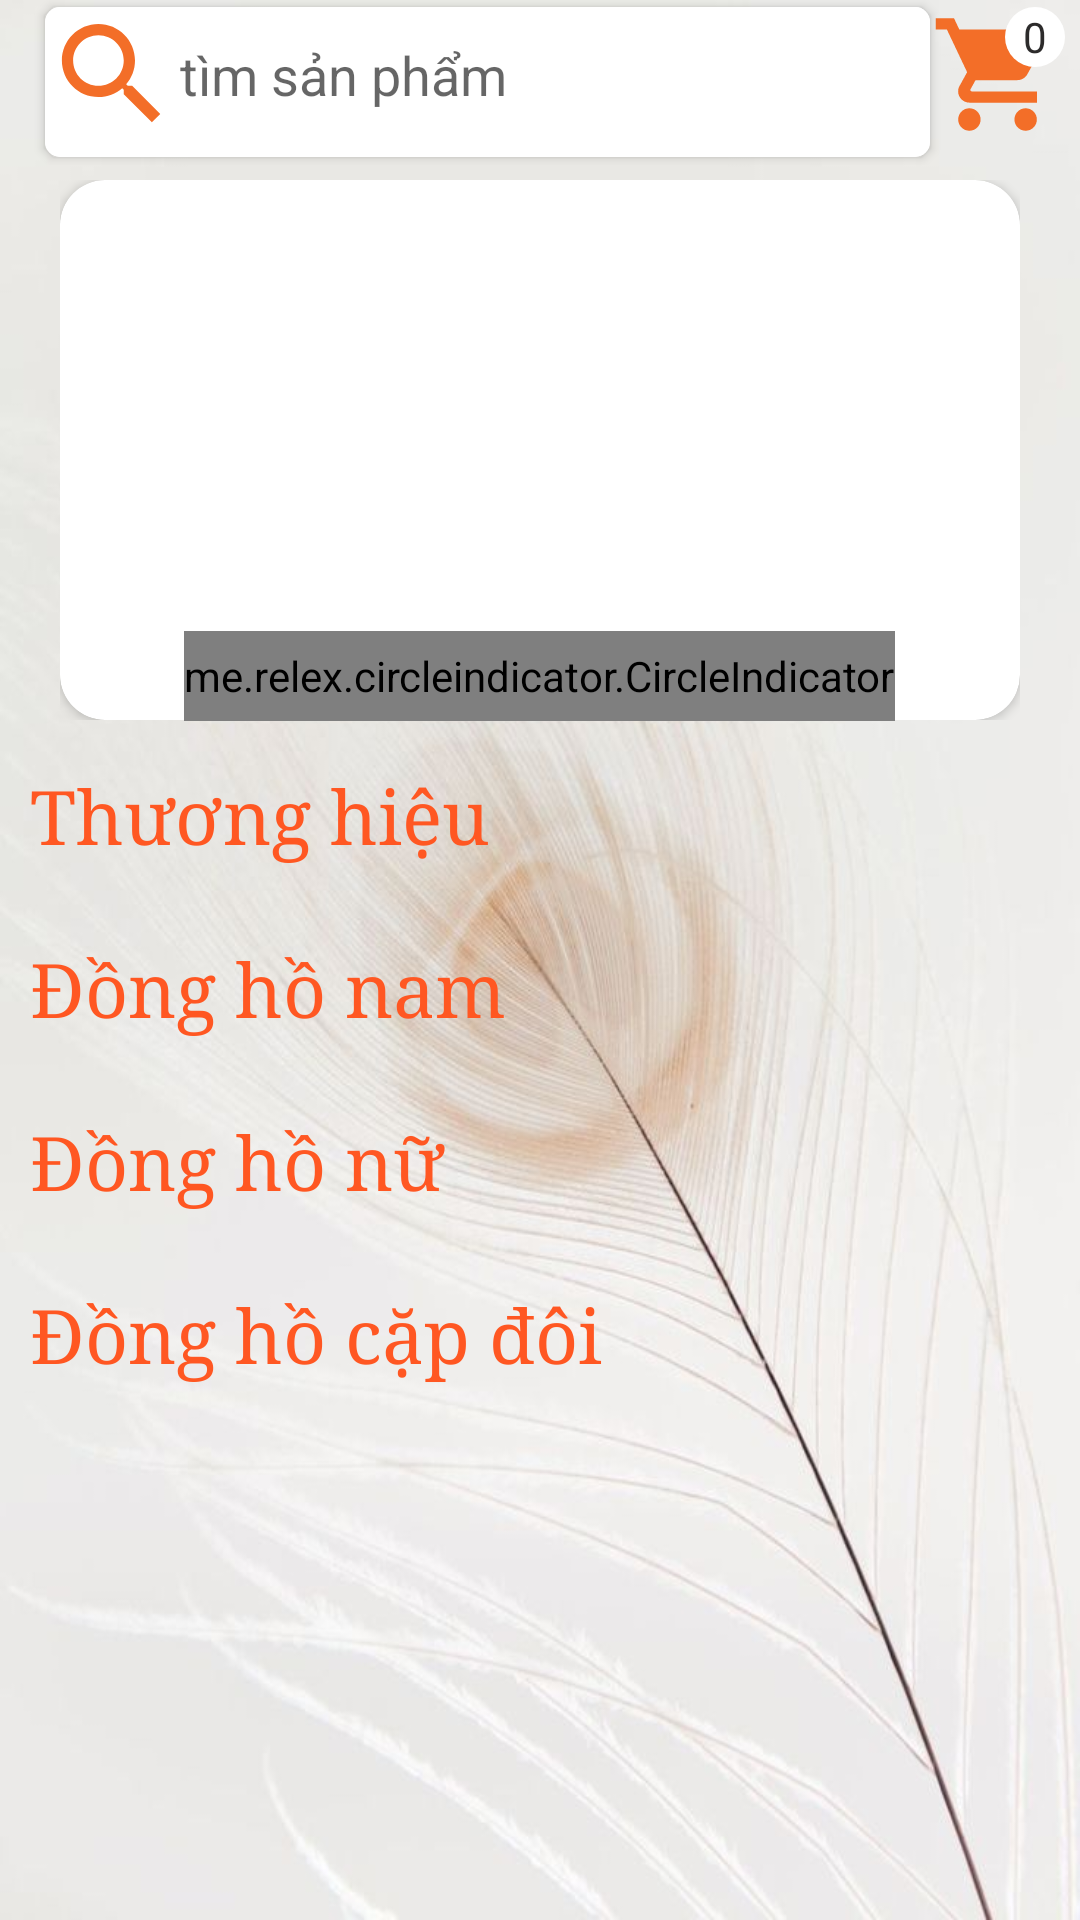

Icons on this 1080w x 1920h Android screen, each with its box as (x1, y1, x2, y2):
cart: (935, 18, 1044, 131)
search: (62, 24, 160, 122)
